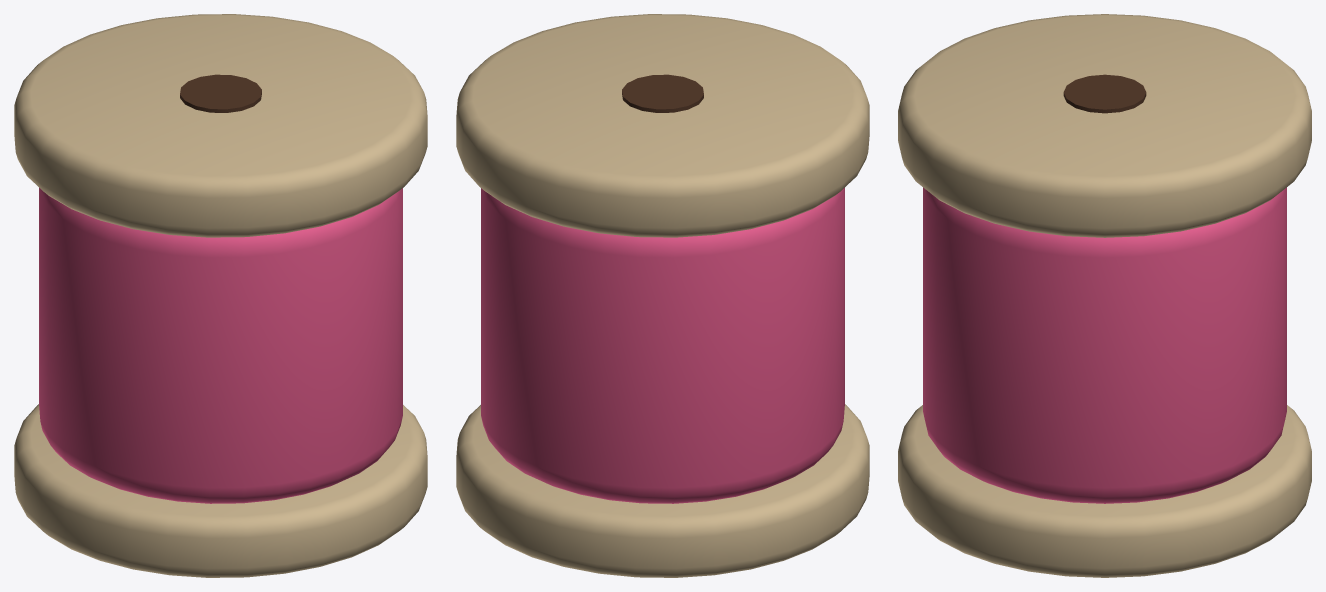
The model's file is spool.glb.
3 views of the same model, side by side, from view 1: azimuth 30°, elevation 25°; view 2: azimuth 150°, elevation 25°; view 3: azimuth 270°, elevation 25° (orthographic).
Visible parts, largest first — view 1: spool_thread, spool_flange.001, spool_flange, spool_hole; view 2: spool_thread, spool_flange.001, spool_flange, spool_hole; view 3: spool_thread, spool_flange.001, spool_flange, spool_hole.
Boxes of the visible parts, x1,y1,x2,y2 form: spool_thread: [39, 187, 402, 503]; spool_flange.001: [14, 14, 427, 237]; spool_flange: [14, 404, 427, 577]; spool_hole: [180, 74, 261, 112]; spool_thread: [481, 187, 844, 503]; spool_flange.001: [456, 14, 869, 237]; spool_flange: [456, 404, 869, 577]; spool_hole: [622, 74, 703, 112]; spool_thread: [923, 187, 1286, 503]; spool_flange.001: [898, 14, 1311, 237]; spool_flange: [898, 405, 1311, 577]; spool_hole: [1063, 74, 1146, 113].
Size of the model in its own units: 0.15 by 0.1615 by 0.15.
